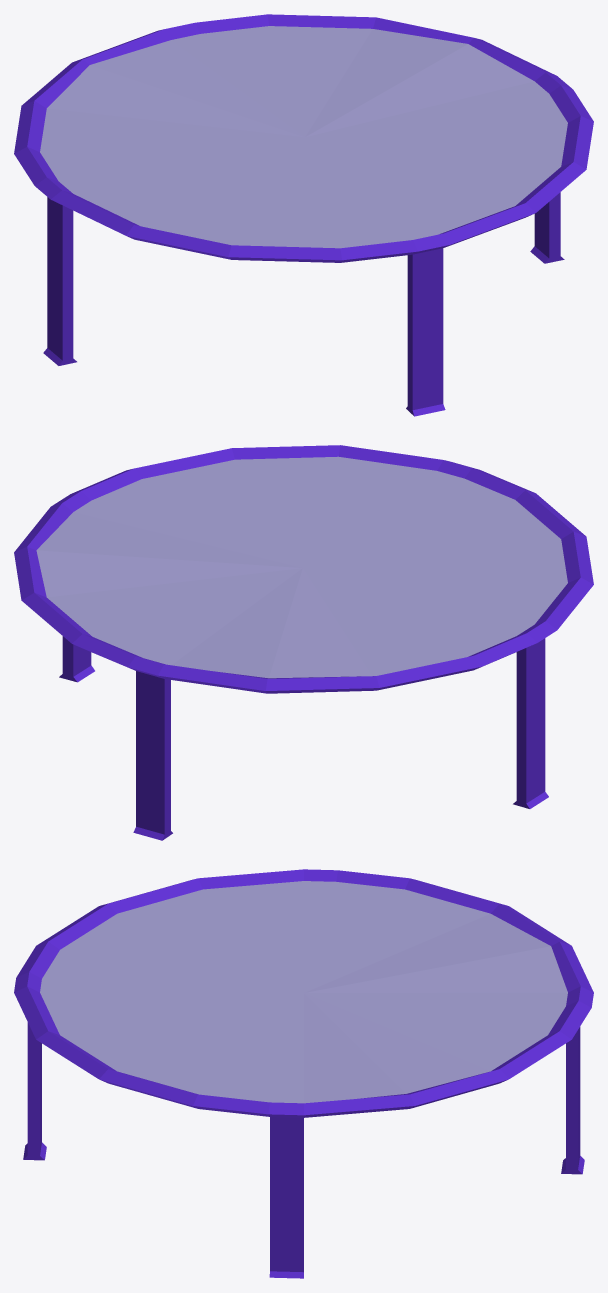
Rendered from trmp-prototype1.fbx.
3 views of the same model, one above another, from view 1: azimuth 30°, elevation 25°; view 2: azimuth 150°, elevation 25°; view 3: azimuth 270°, elevation 25° (orthographic).
Visible parts, largest first — view 1: Sphere; view 2: Sphere; view 3: Sphere.
Boxes of the visible parts, box(x1,y1,x2,y2) form: Sphere: box(14, 14, 593, 416); Sphere: box(14, 445, 593, 840); Sphere: box(14, 869, 593, 1278).
Size of the model in its own units: 220 by 72.74 by 220.
